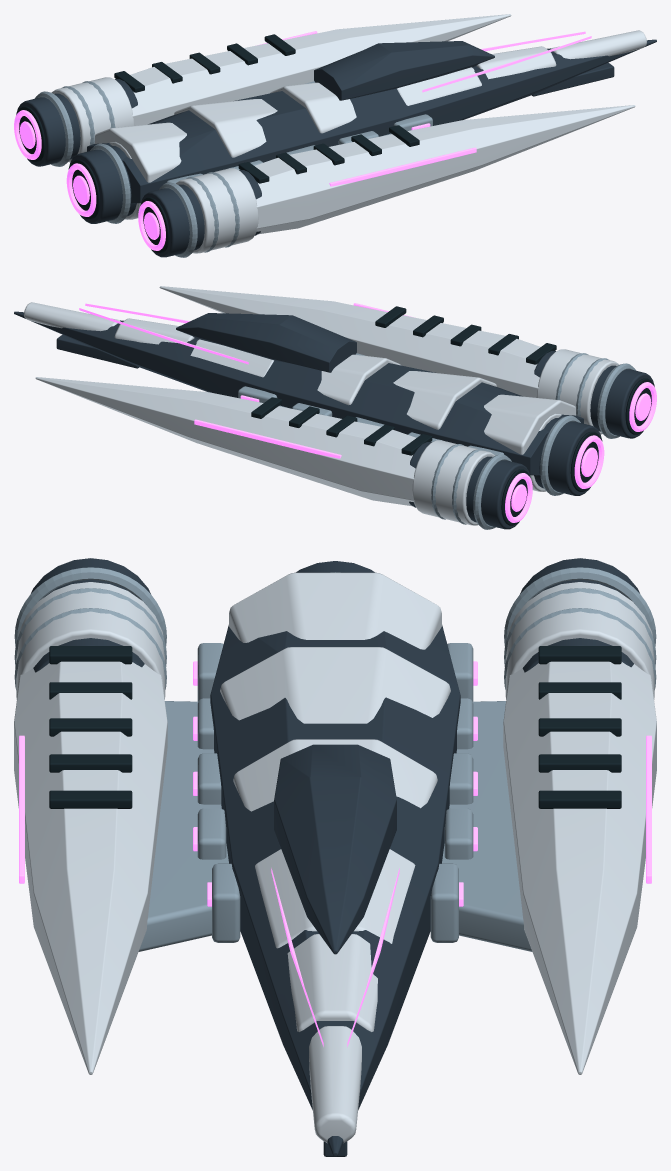
Rendered from ship-05.glb.
3 renders of one model, top to bottom at view 1: azimuth 30°, elevation 25°; view 2: azimuth 150°, elevation 25°; view 3: azimuth 270°, elevation 25°, orthographic. The views are drawn at different scales.
Parts seen in each view (by area): view 1: Ceramic titanium, Graphite frame, Ion violet, Carbon insets, Machined silver; view 2: Ceramic titanium, Graphite frame, Ion violet, Carbon insets, Machined silver; view 3: Ceramic titanium, Graphite frame, Machined silver, Carbon insets, Ion violet.
Boxes of the visible parts, x1=… form: Ceramic titanium: x1=51, y1=14, x2=646, y2=253; Graphite frame: x1=16, y1=39, x2=656, y2=257; Ion violet: x1=14, y1=31, x2=591, y2=250; Carbon insets: x1=17, y1=34, x2=419, y2=253; Machined silver: x1=35, y1=81, x2=432, y2=257; Ceramic titanium: x1=24, y1=286, x2=619, y2=525; Graphite frame: x1=14, y1=311, x2=654, y2=529; Ion violet: x1=79, y1=303, x2=656, y2=522; Carbon insets: x1=251, y1=306, x2=653, y2=525; Machined silver: x1=238, y1=353, x2=635, y2=529; Ceramic titanium: x1=14, y1=572, x2=656, y2=1143; Graphite frame: x1=31, y1=558, x2=639, y2=1156; Machined silver: x1=14, y1=567, x2=656, y2=951; Carbon insets: x1=49, y1=646, x2=621, y2=808; Ion violet: x1=19, y1=661, x2=651, y2=1046.
Size of the model in its own units: 6 by 1.05 by 2.94.
